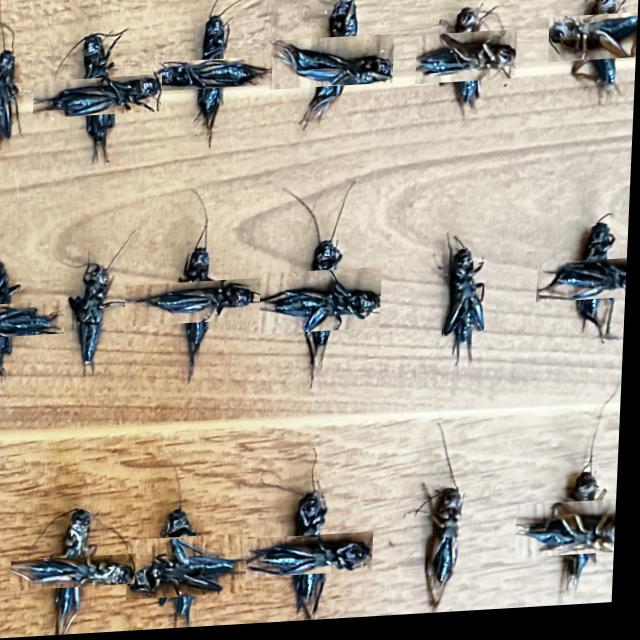no_egg: (263, 273, 383, 336), (72, 264, 138, 372), (132, 541, 253, 599), (128, 282, 278, 325), (272, 43, 393, 90), (248, 539, 378, 580), (34, 78, 163, 118), (522, 509, 621, 560), (446, 254, 487, 368), (430, 493, 467, 619), (417, 39, 517, 85), (16, 558, 140, 588), (550, 24, 638, 66), (540, 267, 629, 308), (154, 63, 274, 91), (0, 307, 67, 337), (0, 49, 19, 147)
